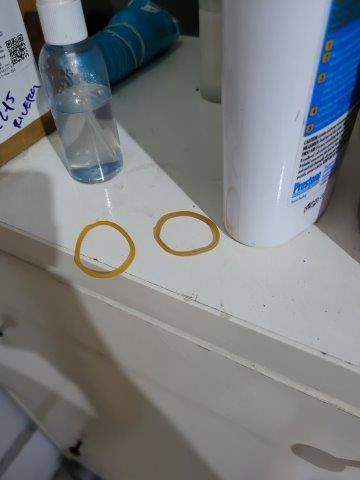karet: (73, 221, 137, 279), (153, 212, 220, 256)
